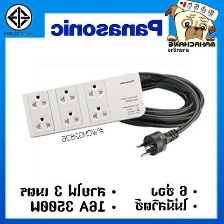three_eye_plug: (20, 67, 148, 139)
